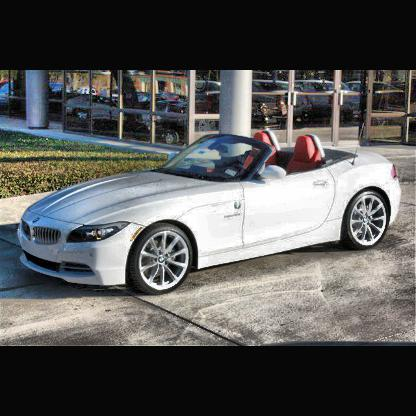BMW Z4 Convertible 2012: (19, 130, 404, 297)
